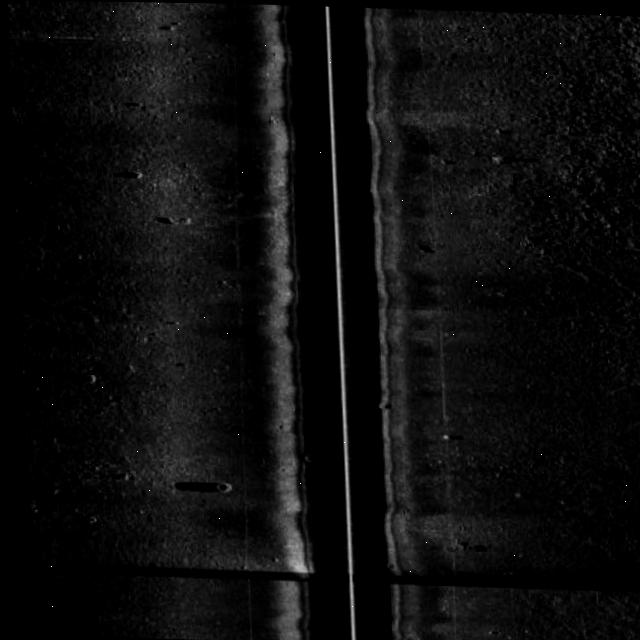mine: (408, 240, 435, 252)
other: (163, 476, 222, 497), (154, 207, 192, 226)
